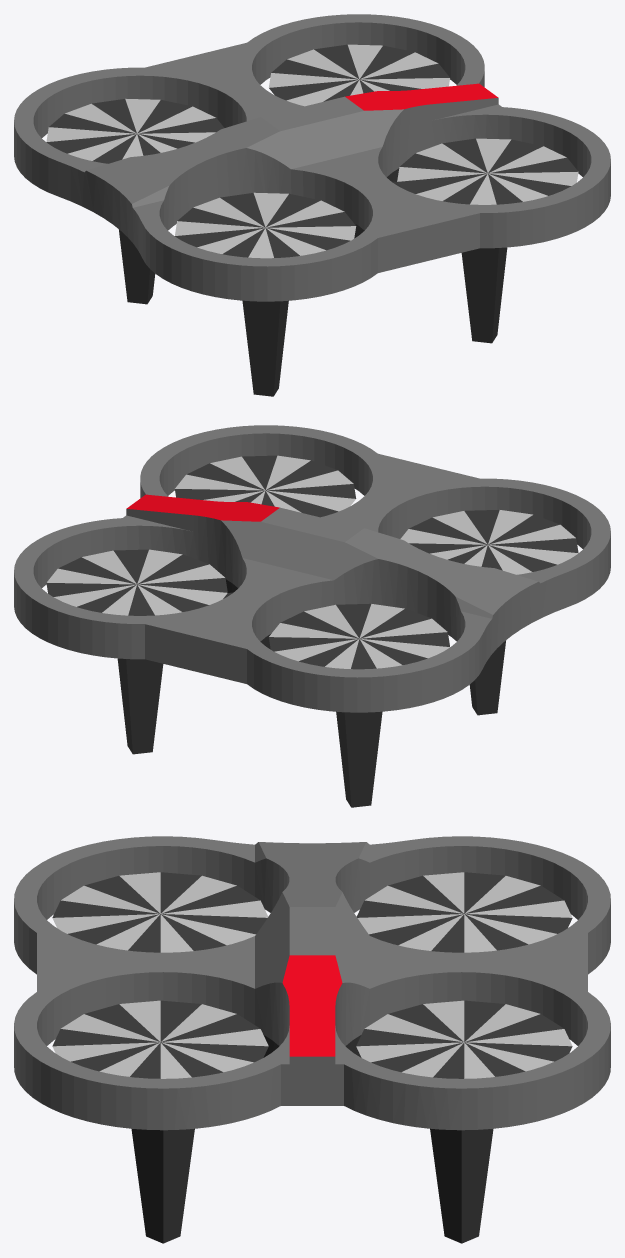
File: quadrotor_CAD2_visuals.dae
3 renders of one model, top to bottom at view 1: azimuth 30°, elevation 25°; view 2: azimuth 150°, elevation 25°; view 3: azimuth 270°, elevation 25°, orthographic. The views are drawn at different scales.
Visible parts, largest first — view 1: Cover; view 2: Cover; view 3: Cover.
Part boxes in pixels (bbox=[...]): Cover: bbox=[14, 14, 610, 396]; Cover: bbox=[14, 425, 610, 807]; Cover: bbox=[14, 836, 610, 1243].
Size of the model in its own units: 0.2705 by 0.2705 by 0.1211.
